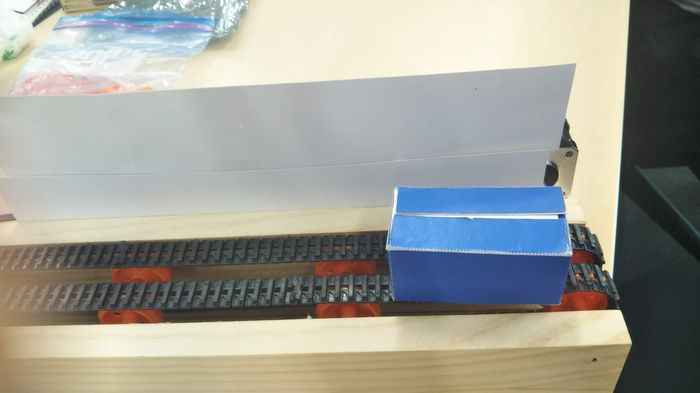box3: (382, 181, 574, 307)
